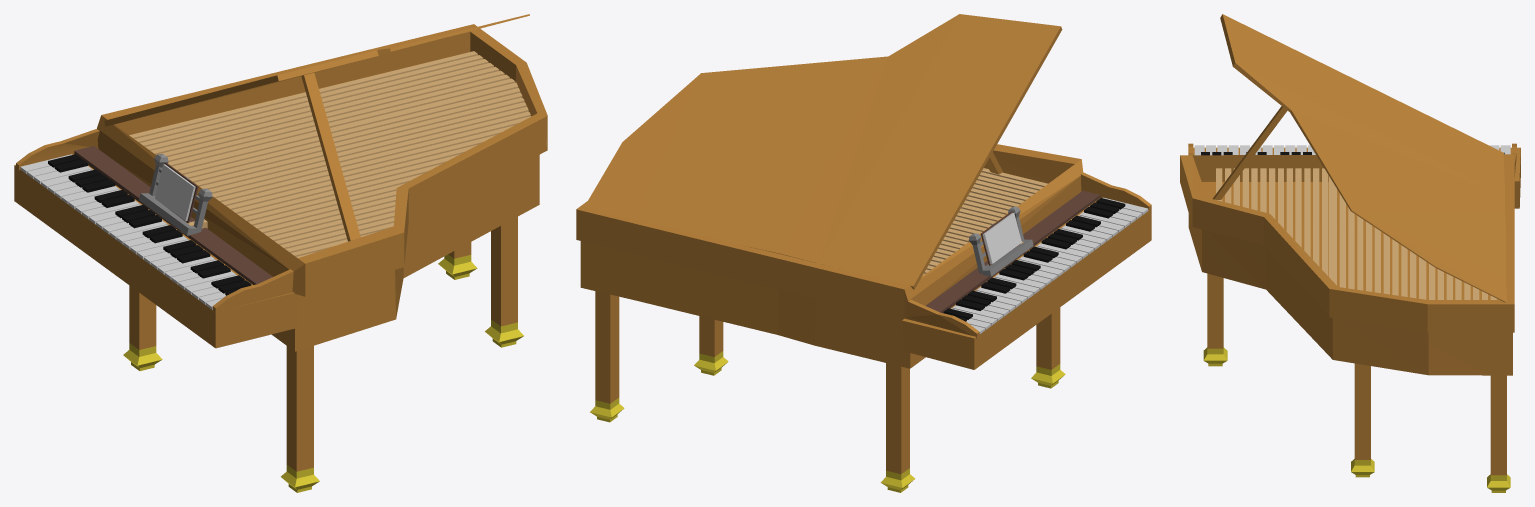
3 renders of one model, left to right at view 1: azimuth 30°, elevation 25°; view 2: azimuth 150°, elevation 25°; view 3: azimuth 270°, elevation 25°, orthographic. The views are drawn at different scales.
Visible parts, largest first — view 1: node_MeshObject-1982436544-PolyPaper19; view 2: node_MeshObject-1982436544-PolyPaper19; view 3: node_MeshObject-1982436544-PolyPaper19.
Part boxes in pixels (x1=…): node_MeshObject-1982436544-PolyPaper19: x1=14, y1=14, x2=547, y2=492; node_MeshObject-1982436544-PolyPaper19: x1=576, y1=14, x2=1151, y2=492; node_MeshObject-1982436544-PolyPaper19: x1=1180, y1=14, x2=1520, y2=492.
Bounding box in the file's own units: 3.45 × 2.99 × 2.71.
